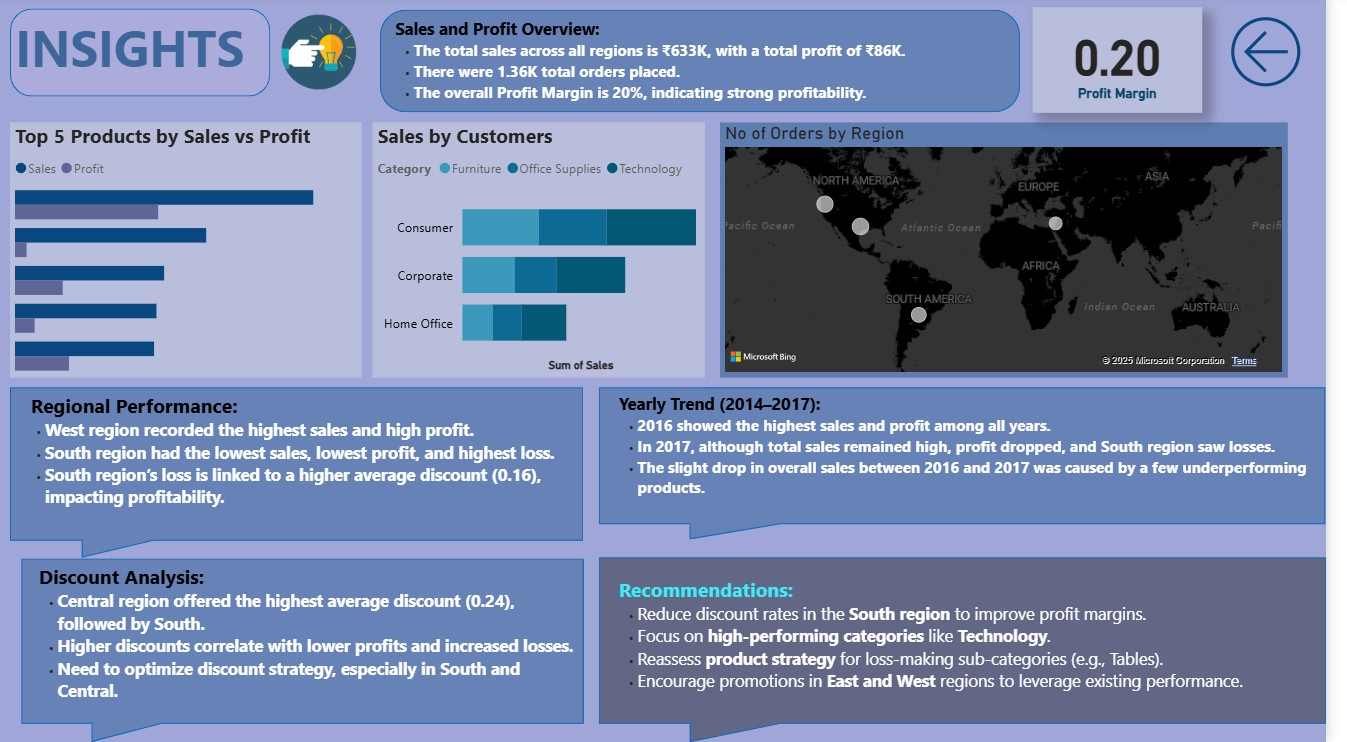

The page's visual inventory and layout, read from the dashboard file:
{"tool":"powerbi","page":{"name":"Insights","canvas":[1280,720],"ordinal":1},"visuals":[{"type":"textbox","box":[9.7,12.1,250.9,76],"z":0},{"type":"actionButton","box":[1179.7,12.7,100,83.5],"z":1000},{"type":"image","box":[250.9,13.3,108.6,82],"z":2000},{"type":"clusteredBarChart","title":"Top 5 Products by Sales vs Profit","fields":{"Category":["DA 1 P.Product Name"],"Y":["Sum(DA 1 P.Sales)","Sum(DA 1 P.Profit Without Loss)"]},"box":[9.7,121.9,339,246.1],"z":3000},{"type":"shape","box":[9.6,12.3,251.1,85.1],"z":4000},{"type":"shape","box":[366.8,13.3,617.7,98.9],"z":5000},{"type":"textbox","box":[376.4,15.7,608,96.5],"z":6000},{"type":"shape","box":[10.1,377.2,553.2,164.6],"z":7000},{"type":"textbox","box":[20.3,377.2,522.8,146.8],"z":8000},{"type":"shape","box":[20.3,543,543,177.2],"z":9000},{"type":"textbox","box":[32.9,543,530.4,162],"z":10000},{"type":"shape","box":[578.5,377.2,701.3,146.8],"z":11000},{"type":"textbox","box":[592.4,377.2,687.3,126.6],"z":12000},{"type":"shape","box":[577.9,541.7,702.1,178.6],"z":13000},{"type":"barChart","title":"Sales by Customers  ","fields":{"Category":["DA 1 P.Segment"],"Y":["Sum(DA 1 P.Sales)"],"Series":["DA 1 P.Category"]},"box":[359.5,121.9,320.9,246.1],"z":14000},{"type":"map","fields":{"Category":["DA 1 P.Region"],"Size":["CountNonNull(DA 1 P.Order ID)"]},"box":[694.9,121.9,547.7,246.1],"z":15000},{"type":"textbox","box":[592.4,555,687.7,139.9],"z":16000},{"type":"card","fields":{"Values":["DA 1 P.Profit Margin"]},"box":[996.5,10.9,164.1,101.3],"z":17000}]}

Visuals, with their boxes in screenshot pixels (x1, y1, x2, y2), scaled from the page's 1280x720 canvas onto the 1347x742 screenshot:
textbox: [x1=10, y1=12, x2=274, y2=91]
actionButton: [x1=1241, y1=13, x2=1346, y2=99]
image: [x1=264, y1=14, x2=378, y2=98]
"Top 5 Products by Sales vs Profit" clusteredBarChart: [x1=10, y1=126, x2=367, y2=379]
shape: [x1=10, y1=13, x2=274, y2=100]
shape: [x1=386, y1=14, x2=1036, y2=116]
textbox: [x1=396, y1=16, x2=1036, y2=116]
shape: [x1=11, y1=389, x2=593, y2=558]
textbox: [x1=21, y1=389, x2=572, y2=540]
shape: [x1=21, y1=560, x2=593, y2=741]
textbox: [x1=35, y1=560, x2=593, y2=727]
shape: [x1=609, y1=389, x2=1346, y2=540]
textbox: [x1=623, y1=389, x2=1346, y2=519]
shape: [x1=608, y1=558, x2=1346, y2=741]
"Sales by Customers  " barChart: [x1=378, y1=126, x2=716, y2=379]
map - DA 1 P.Region x CountNonNull(DA 1 P.Order ID): [x1=731, y1=126, x2=1308, y2=379]
textbox: [x1=623, y1=572, x2=1346, y2=716]
card - DA 1 P.Profit Margin: [x1=1049, y1=11, x2=1221, y2=116]
